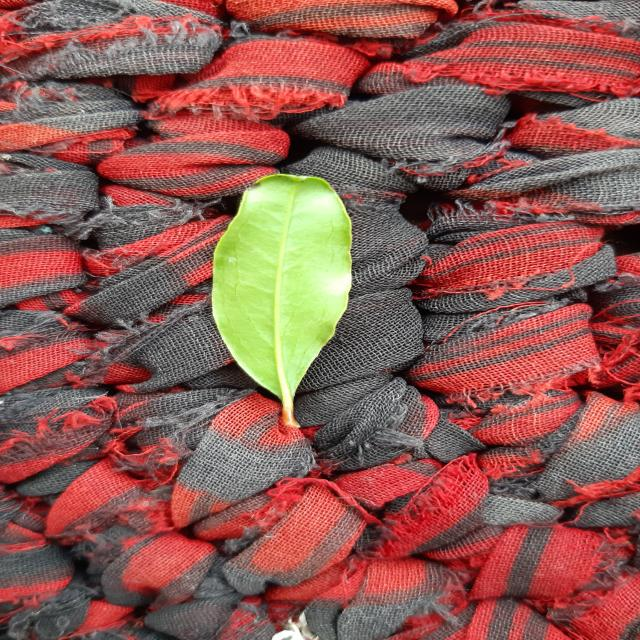pomgranate: (213, 175, 351, 428)
